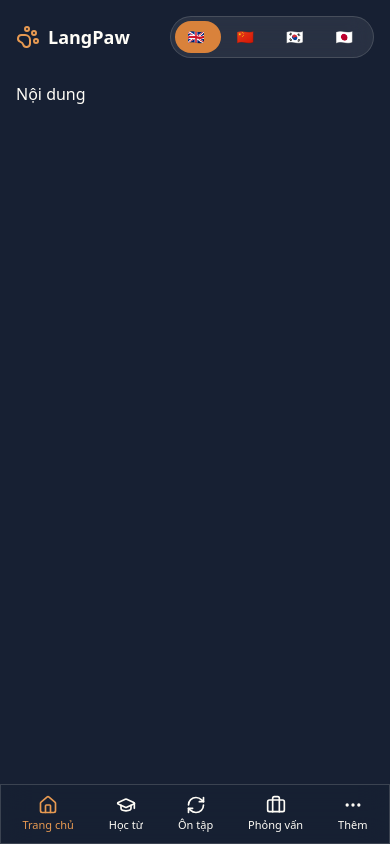
Scenario: AppShell — menu Thêm mobile (P0.3) › mở menu Thêm và truy cập được các trang phụ
Click the button "Thêm" at (353, 814), box [330,790,376,837]
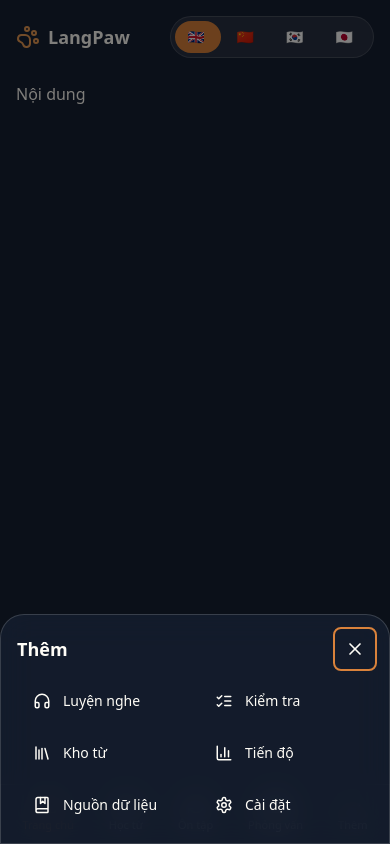
Result: the dialog named "Menu điều hướng thêm" is shown at [0,614,389,843]
Result: the link "Luyện nghe" is shown at [33,691,140,710]
Result: the link "Kiểm tra" is shown at [215,691,300,710]
